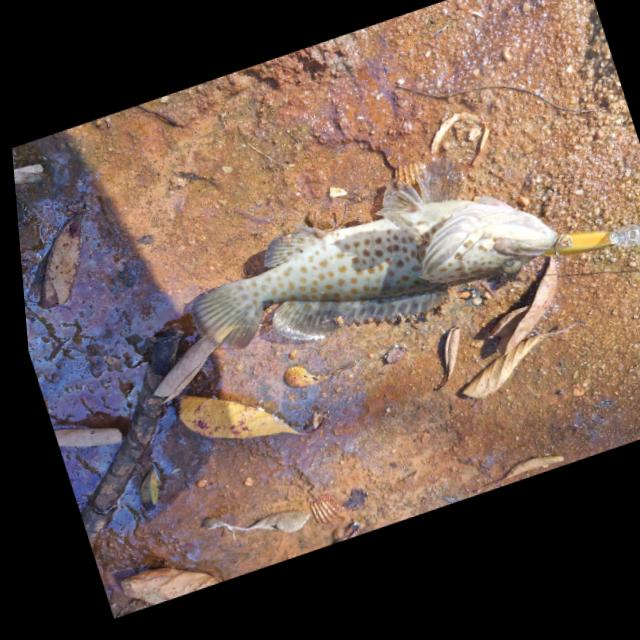Groupers: (164, 137, 571, 388)
